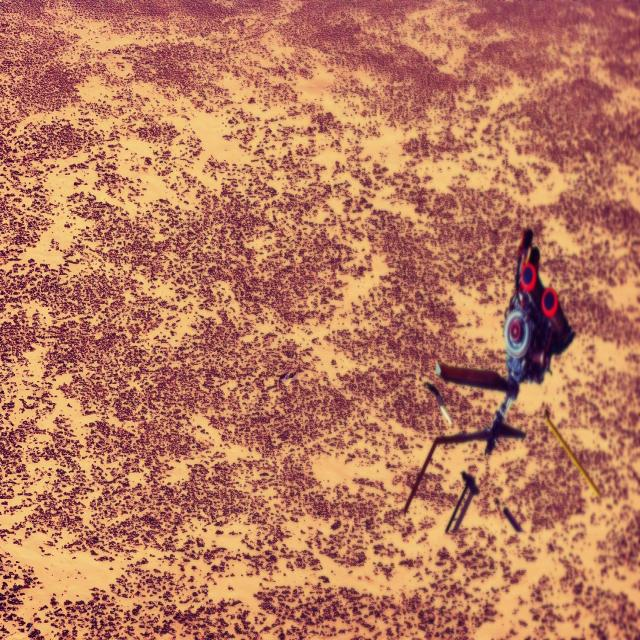airplane: (402, 226, 600, 535)
